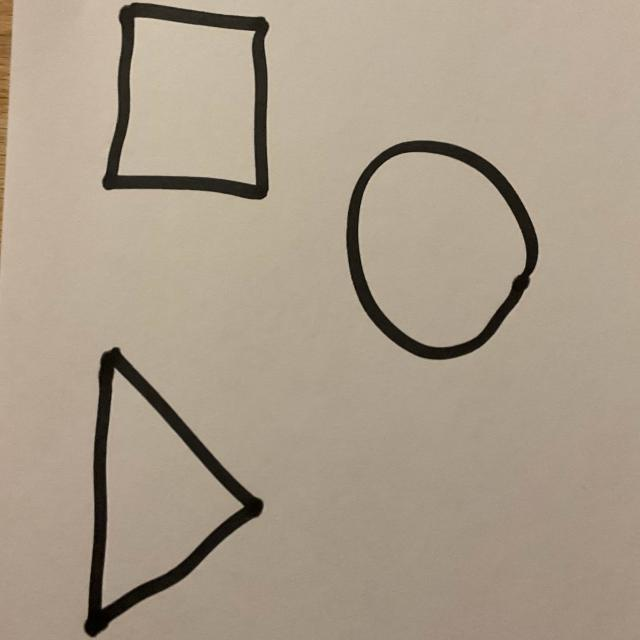Dreieck: (84, 349, 265, 638)
Kreis: (344, 140, 540, 363)
Quadrat: (101, 4, 270, 202)
